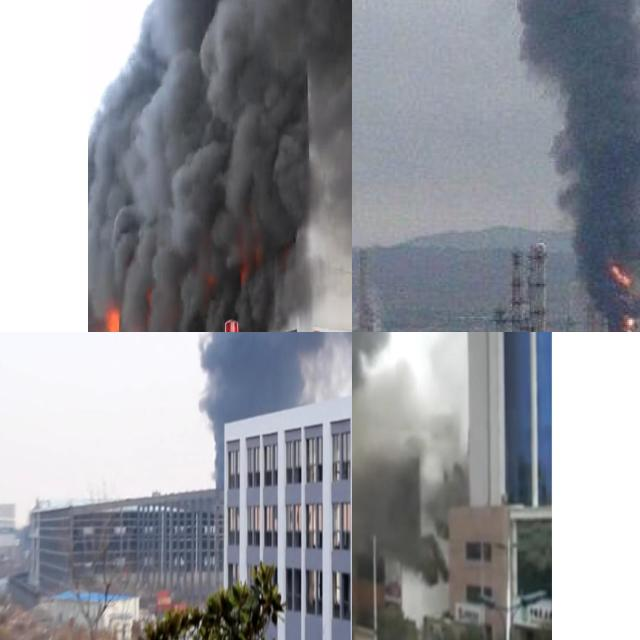fire: (603, 316, 638, 332), (610, 261, 630, 284), (104, 305, 119, 332)
smoke: (87, 0, 352, 332), (482, 0, 640, 332), (352, 332, 469, 579)
